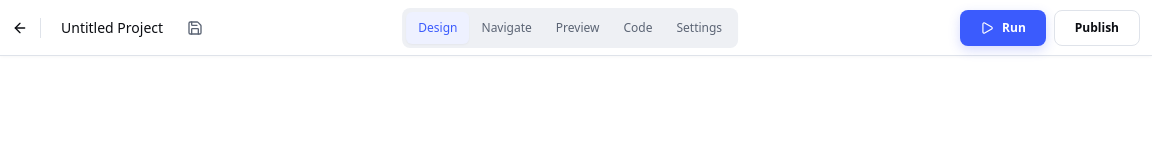
Test: editor shell regions › saves the inline project name when focus moves outside the input
Click the button "Untitled Project".
click(112, 28)  # box [53,14,171,42]
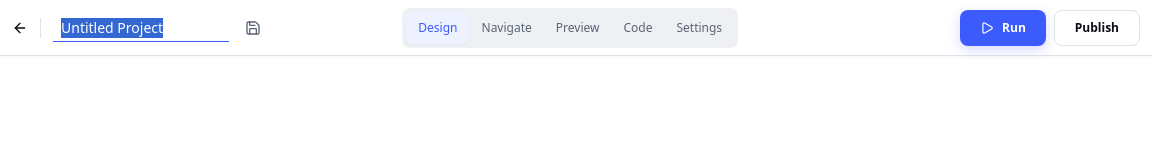
Replace the text in the field named "Project name" with "Saved On Blur" at [162, 28], box [53,14,271,42]
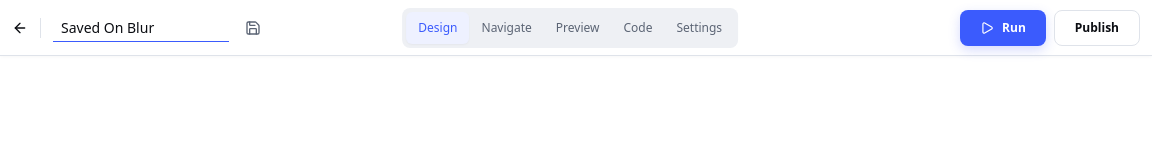
Leave the field named "Project name", box [53,14,271,42]
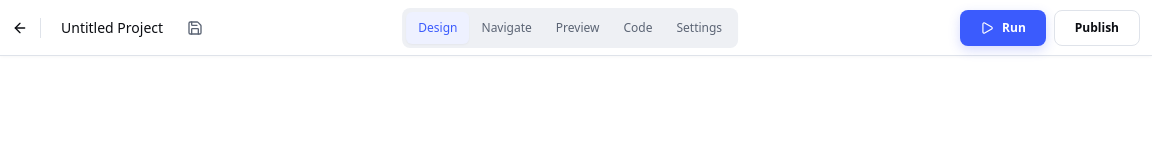
Expected: the button "Untitled Project" is shown, [53,14,171,42]
